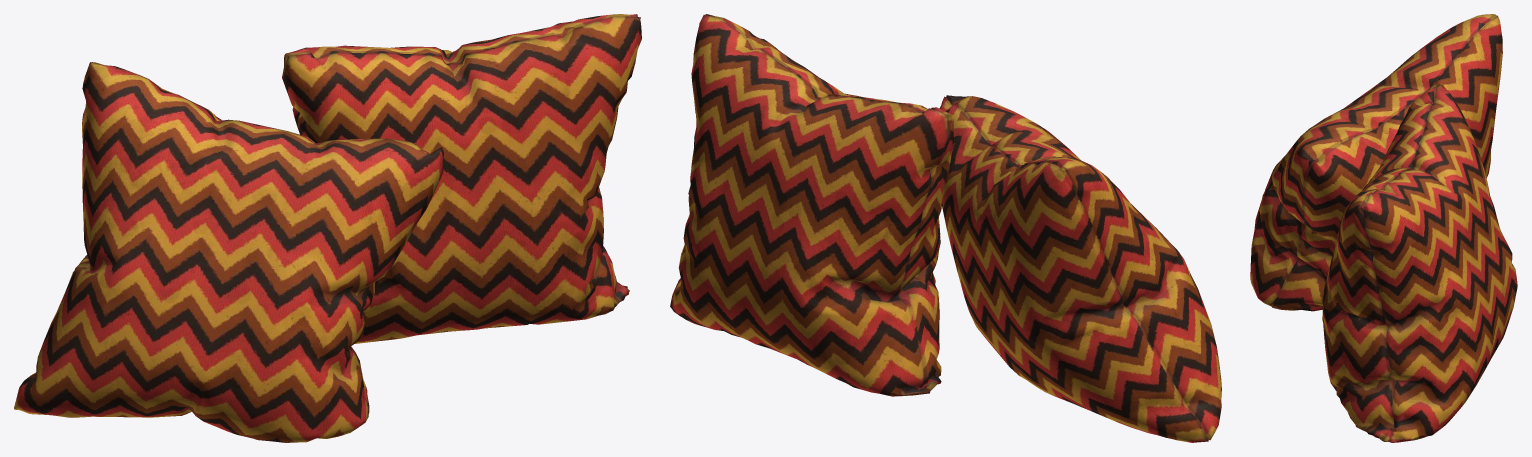
Rendered from throw_pillows_01.gltf.
3 renders of one model, left to right at view 1: azimuth 30°, elevation 25°; view 2: azimuth 150°, elevation 25°; view 3: azimuth 270°, elevation 25°, orthographic. The views are drawn at different scales.
Visible parts, largest first — view 1: throw_pillows_01_pillow01, throw_pillows_01_pillow02; view 2: throw_pillows_01_pillow02, throw_pillows_01_pillow01; view 3: throw_pillows_01_pillow02, throw_pillows_01_pillow01.
Part boxes in pixels (x1,y1,x2,y2): throw_pillows_01_pillow01: [14, 62, 443, 442]; throw_pillows_01_pillow02: [282, 14, 641, 343]; throw_pillows_01_pillow02: [670, 14, 953, 396]; throw_pillows_01_pillow01: [939, 95, 1221, 442]; throw_pillows_01_pillow02: [1322, 84, 1517, 442]; throw_pillows_01_pillow01: [1250, 14, 1502, 311].
Bounding box in the file's own units: 0.9401 × 0.4502 × 0.4519.
Materials: 1 (1 with a texture image).
